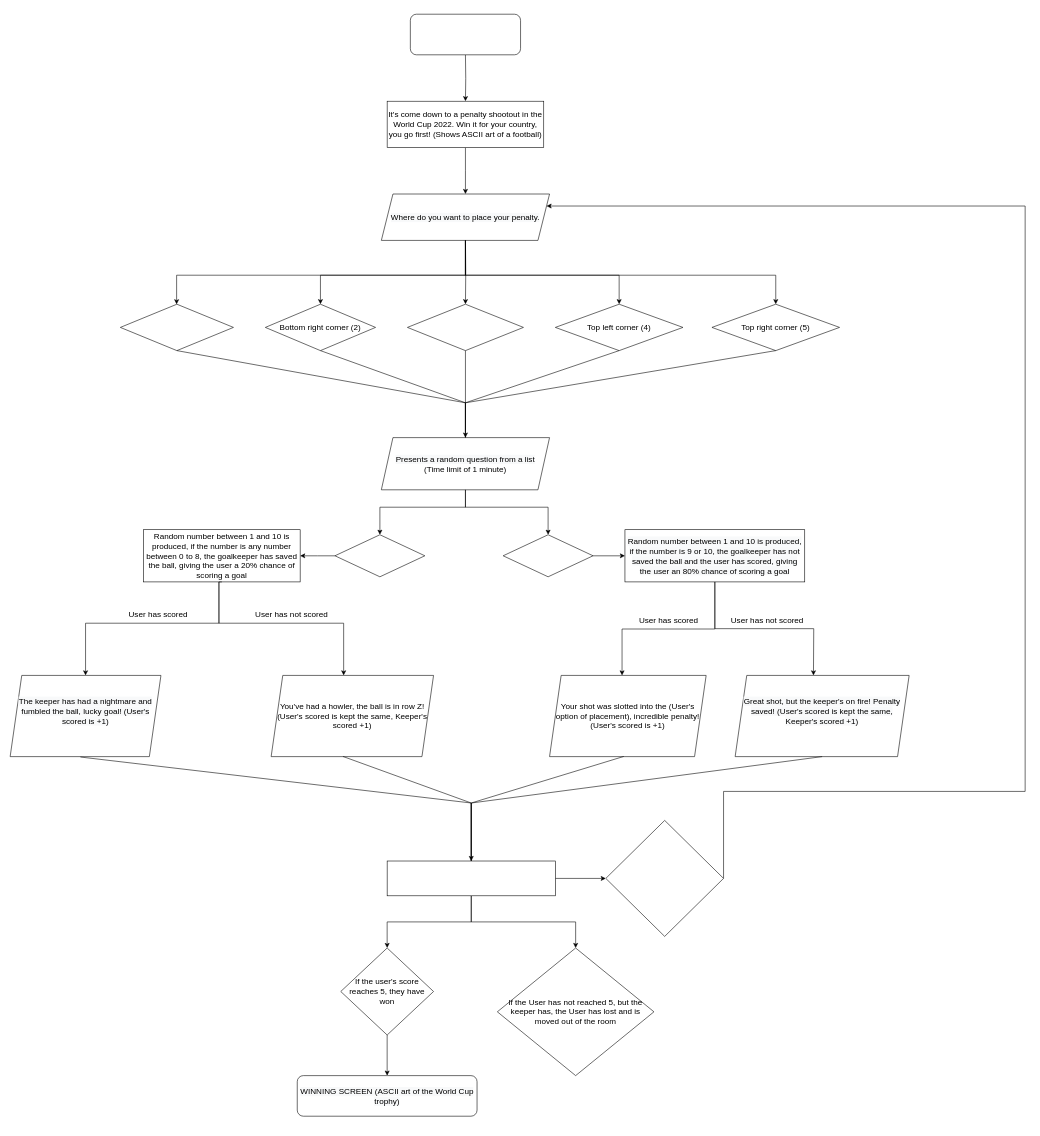
The diagram is 1040 pixels wide and 1136 high, and some of its shapes have lost their labels. The centre of each missing label's shape, as x and y in pixels:
"Bottom left corner (1)" belongs at point 176,327.
"FOOTBALL WORLD CUP OPENING SCREEN" belongs at point 465,34.
"If the User and keeper have not reached 5, give the option to shoot again" belongs at point 664,878.
"Middle (3)" belongs at point 465,327.
"Right answer" belongs at point 548,555.
"Score Check (While loop check)" belongs at point 471,878.
"Wrong answer" belongs at point 379,555.
